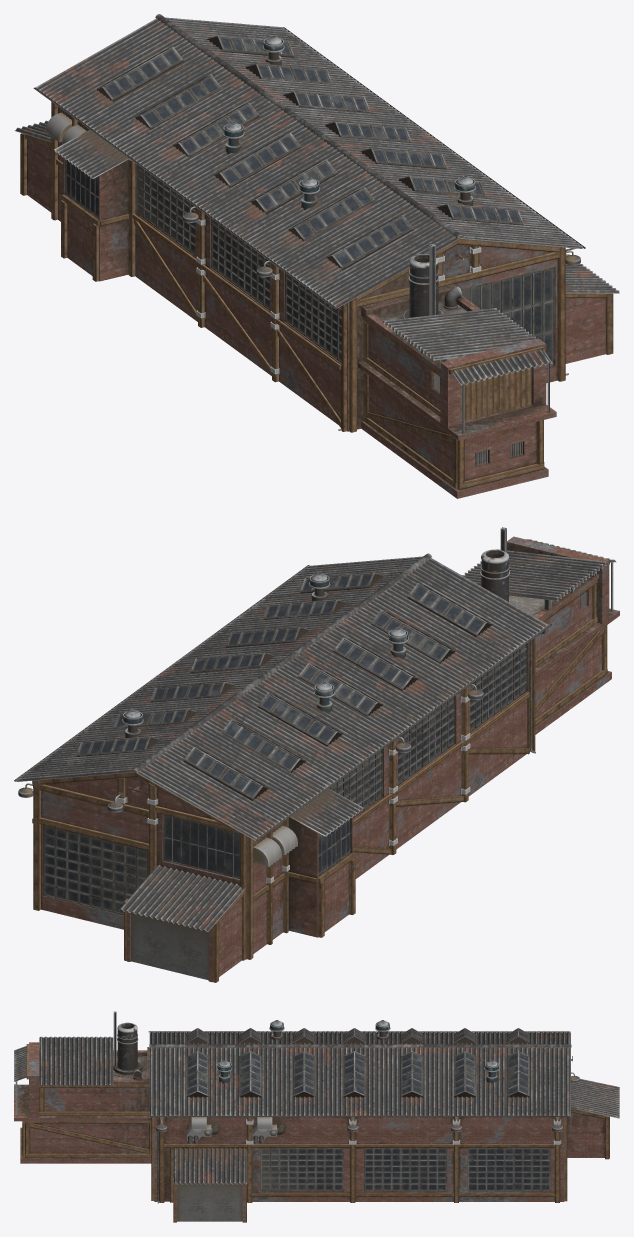
Rendered from Building7.glb.
3 views of the same model, one above another, from view 1: azimuth 30°, elevation 25°; view 2: azimuth 150°, elevation 25°; view 3: azimuth 270°, elevation 25° (orthographic). The views are drawn at different scales.
Parts seen in each view (by area): view 1: roof sheet.002, Cube.002, window.001, roof sheet.003, Cube.055, Cube.062, Cube.008, Cube.007, Cube.003, Cylinder.028, roof sheet.001, Cube.021 (+10 smaller); view 2: roof sheet.002, Cube.002, window.001, roof sheet.003, Cube.012, Cube.007, Cube.008, Cube.021, Cylinder.028, Cube.074, Cube.003, Cube.013 (+6 smaller); view 3: Cube.002, roof sheet.002, window.001, roof sheet.003, Cube.004, Cube.005, Cube.011, Cylinder.028, Cube.021, Cube.131, Cube.135, Cube.101 (+19 smaller).
Part boxes in pixels (box(x1,y1,x2,y2)): roof sheet.002: box(14, 14, 619, 308); Cube.002: box(27, 106, 605, 498); window.001: box(97, 36, 523, 270); roof sheet.003: box(380, 308, 535, 360); Cube.055: box(460, 367, 531, 422); Cube.062: box(349, 247, 565, 432); Cube.008: box(285, 270, 341, 362); Cube.007: box(211, 218, 269, 310); Cube.003: box(136, 164, 195, 255); Cylinder.028: box(403, 254, 443, 318); roof sheet.001: box(452, 349, 552, 385); Cube.021: box(33, 27, 585, 309); roof sheet.002: box(15, 553, 548, 931); Cube.002: box(41, 536, 619, 981); window.001: box(76, 572, 492, 801); roof sheet.003: box(461, 549, 608, 600); Cube.012: box(43, 825, 148, 915); Cube.007: box(398, 694, 455, 785); Cube.008: box(470, 643, 527, 732); Cube.021: box(14, 565, 551, 840); Cylinder.028: box(480, 549, 509, 601); Cube.074: box(33, 780, 40, 910); Cube.003: box(330, 749, 382, 818); Cube.013: box(163, 814, 240, 878); Cube.002: box(14, 1042, 609, 1222); roof sheet.002: box(149, 1031, 619, 1184); window.001: box(186, 1028, 529, 1097); roof sheet.003: box(39, 1036, 113, 1085); Cube.004: box(261, 1148, 343, 1191); Cube.005: box(364, 1148, 446, 1191); Cube.011: box(468, 1148, 550, 1191); Cylinder.028: box(113, 1022, 141, 1074); Cube.021: box(148, 1031, 570, 1116); Cube.131: box(25, 1153, 151, 1157); Cube.135: box(30, 1123, 149, 1153); Cube.101: box(39, 1111, 149, 1115).
Size of the model in its own units: 4.07 by 2.3 by 9.34.
1 material, 1 textured.
